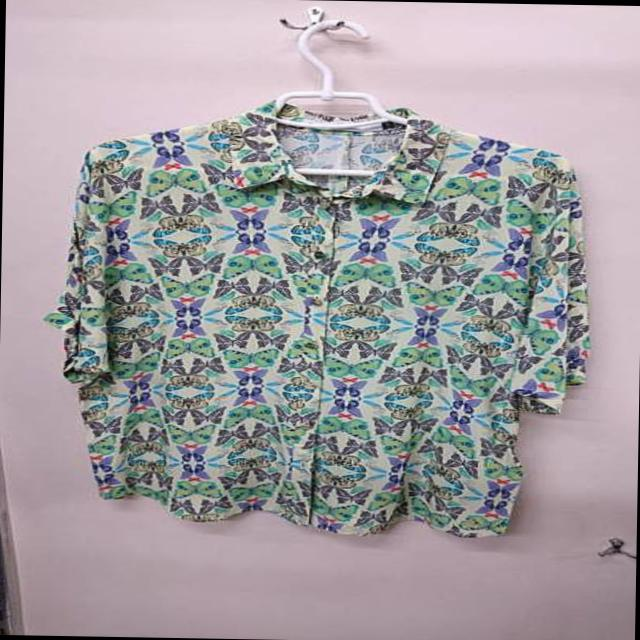SHIRT: (32, 85, 616, 545)
